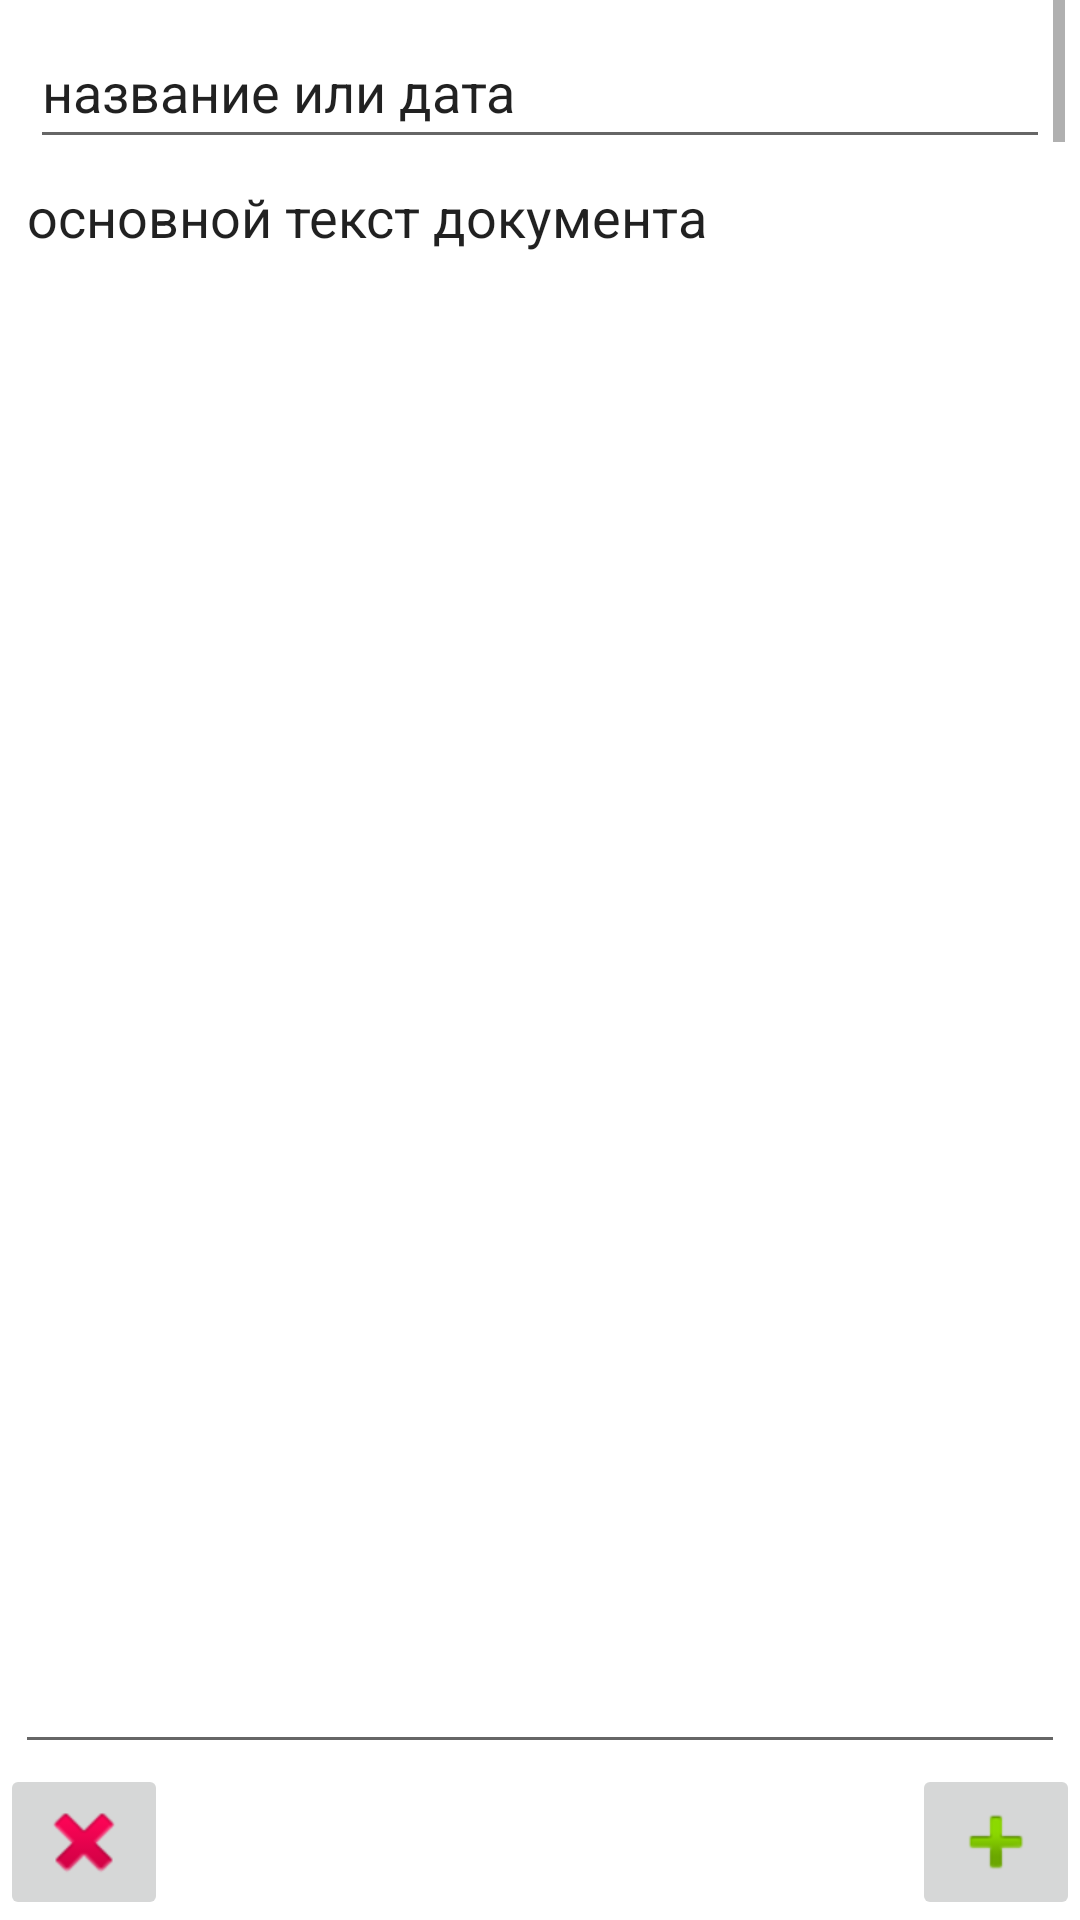

Where icons sit on this 1080 × 1920 app screen, as bbox=(x1, y1, x2, y2):
add: bbox=(924, 1782, 1068, 1902)
delete: bbox=(12, 1782, 156, 1902)
